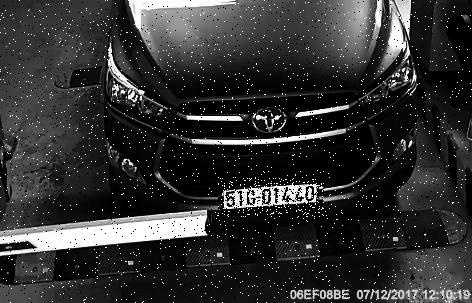License-plate: (220, 180, 326, 219)
